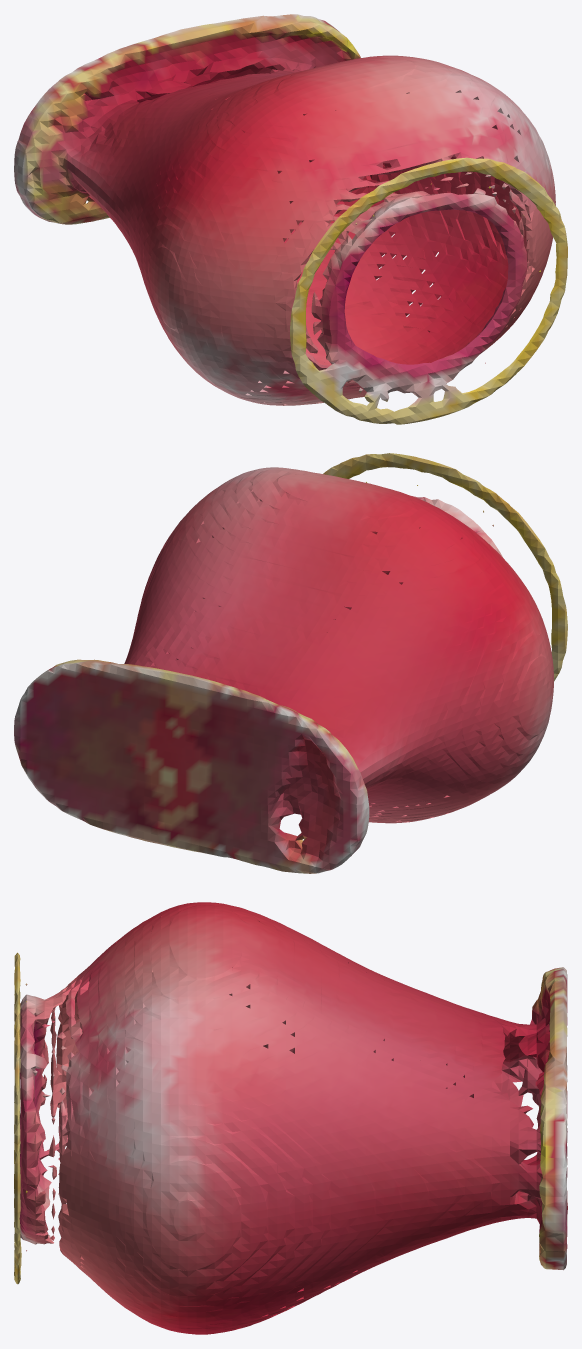
The model's file is jiji.glb.
3 views of the same model, one above another, from view 1: azimuth 30°, elevation 25°; view 2: azimuth 150°, elevation 25°; view 3: azimuth 270°, elevation 25° (orthographic). The views are drawn at different scales.
Visible parts, largest first — view 1: world; view 2: world; view 3: world.
Part boxes in pixels (x1,y1,x2,y2): world: [14, 14, 567, 424]; world: [14, 453, 567, 873]; world: [14, 902, 567, 1334].
Size of the model in its own units: 0.9035 by 0.7203 by 1.
